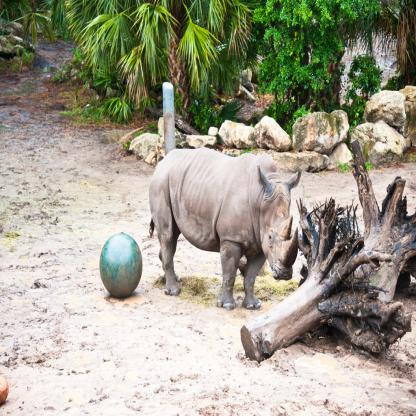Ball: (99, 231, 142, 297)
